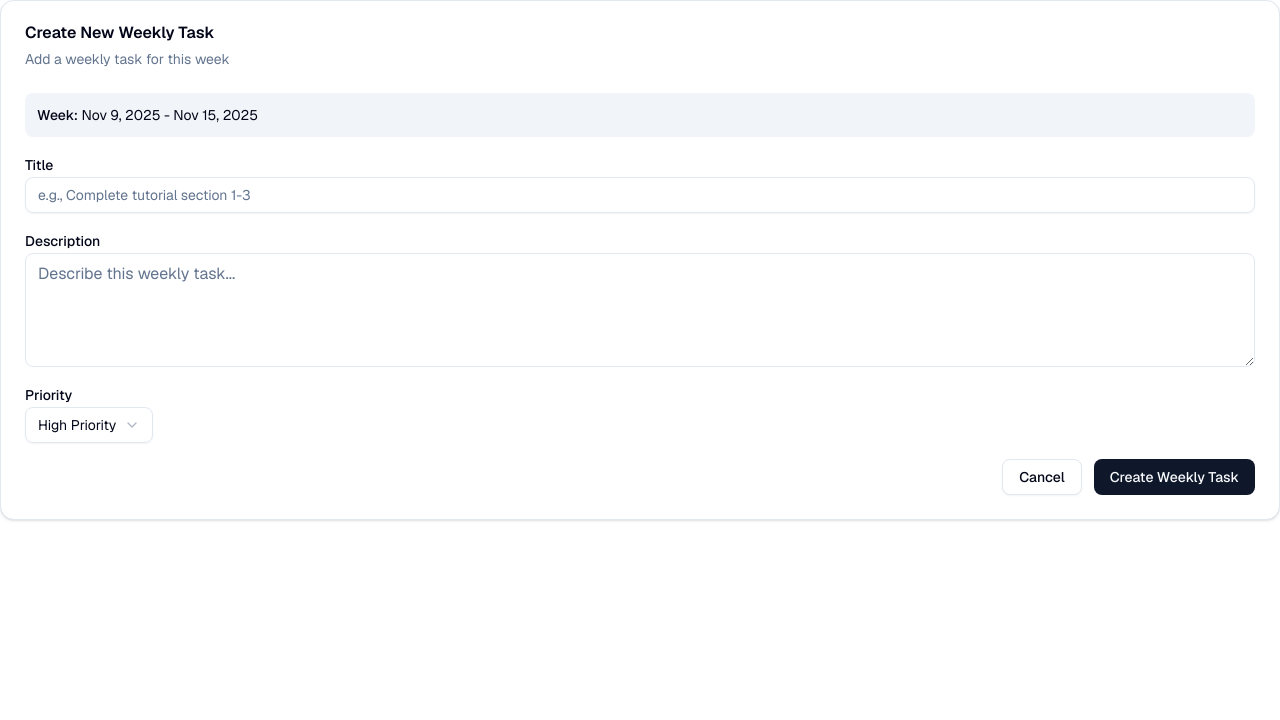
WeeklyTaskForm › Loading States › disables form during submission
This screenshot has width=1280, height=720.
Type "Test task" into the field labelled "Title". click: (640, 195)
box: [25,177,1255,213]
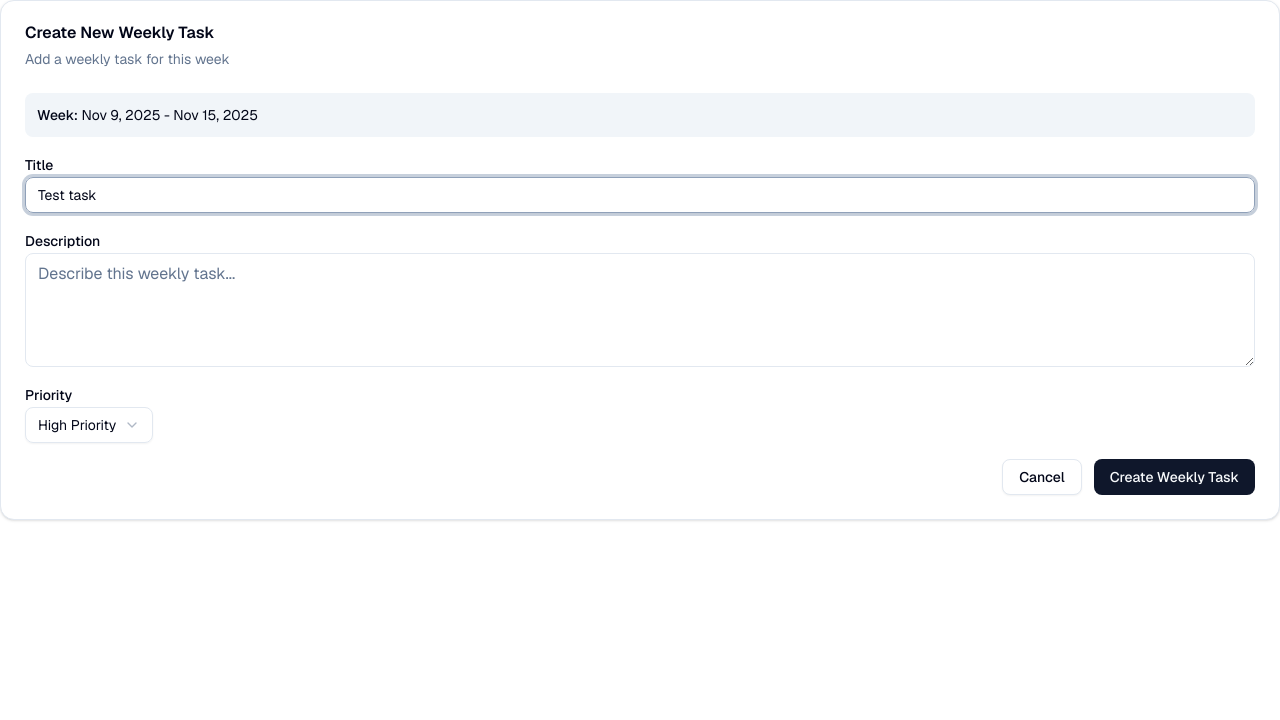
Click the button "Create Weekly Task". click: (1174, 477)
box: [1094,459,1255,495]
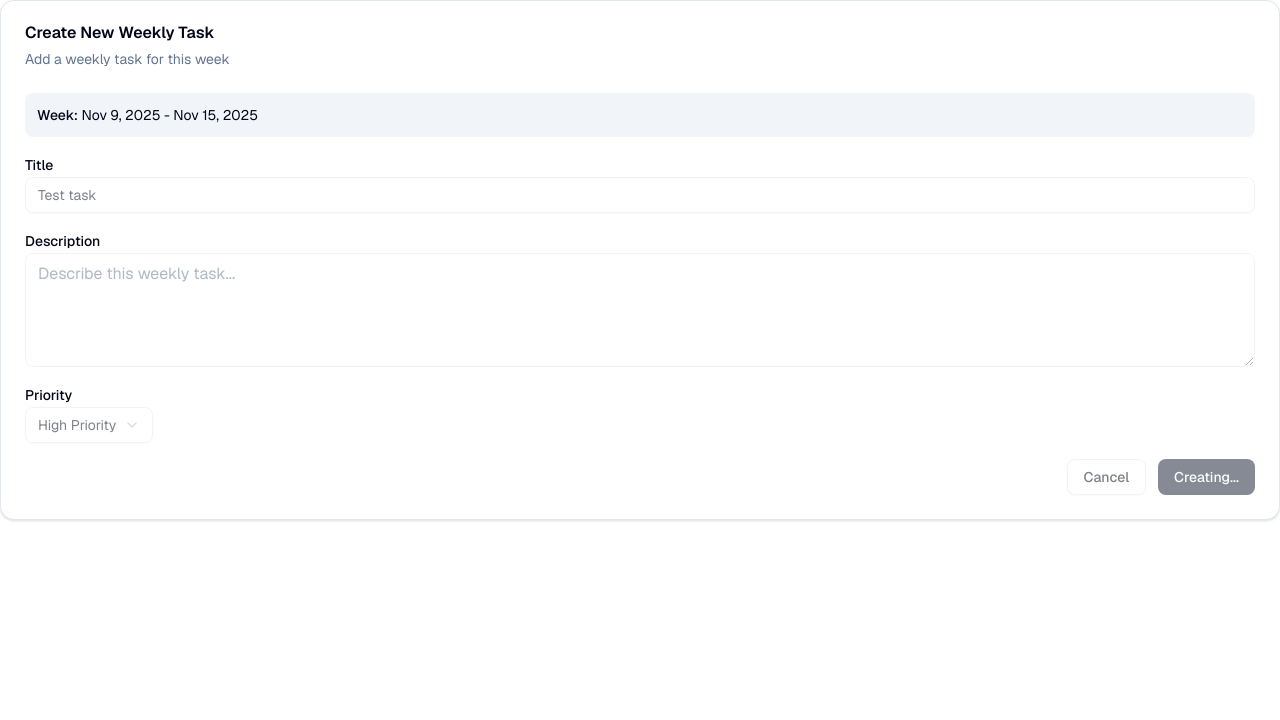
Expected: the button named "create" is disabled, [1158,459,1255,495]
Expected: the field labelled "Title" is disabled, [25,177,1255,213]
